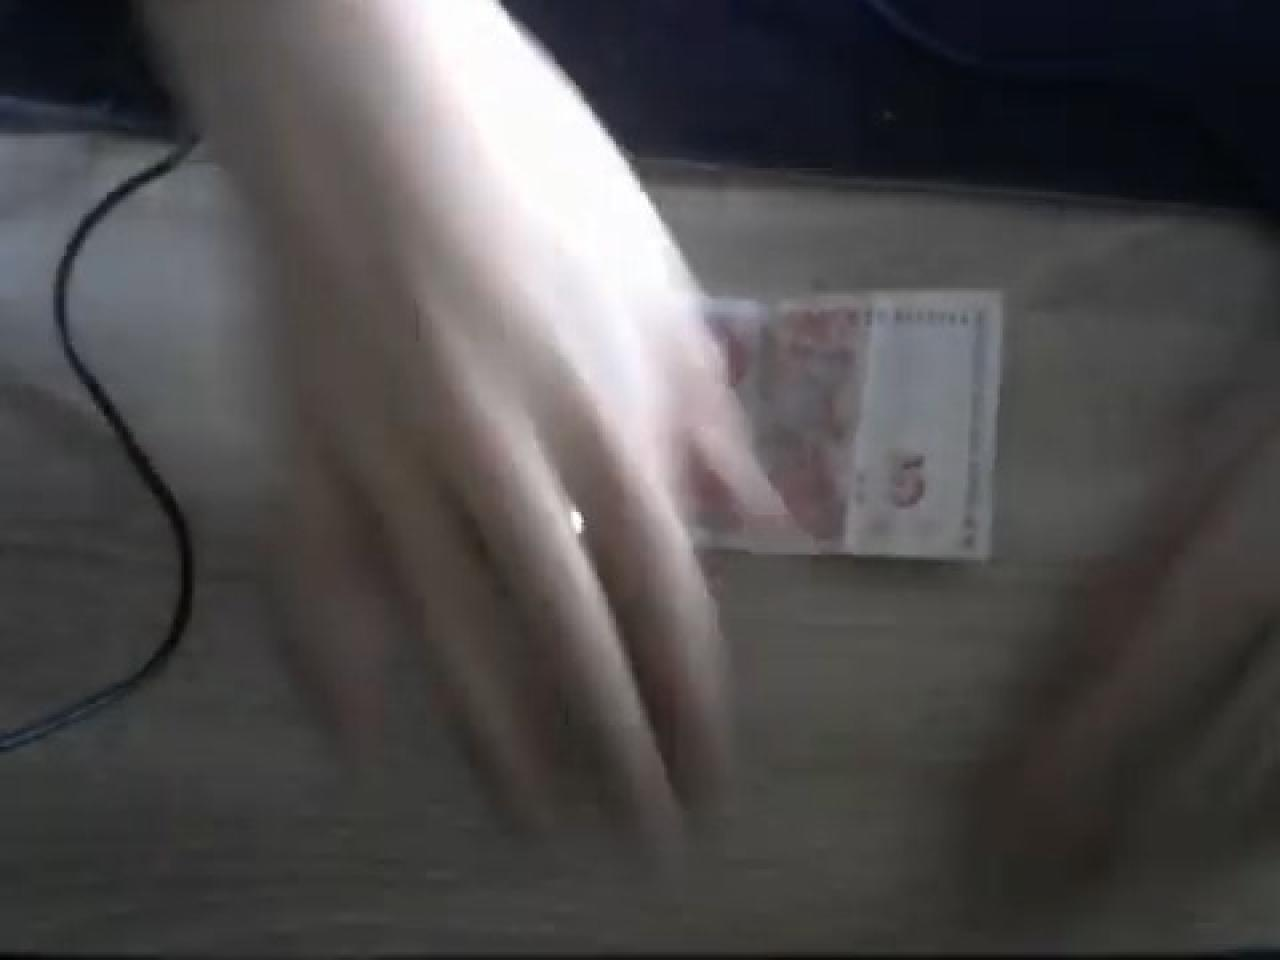5leva: (677, 288, 1005, 571)
